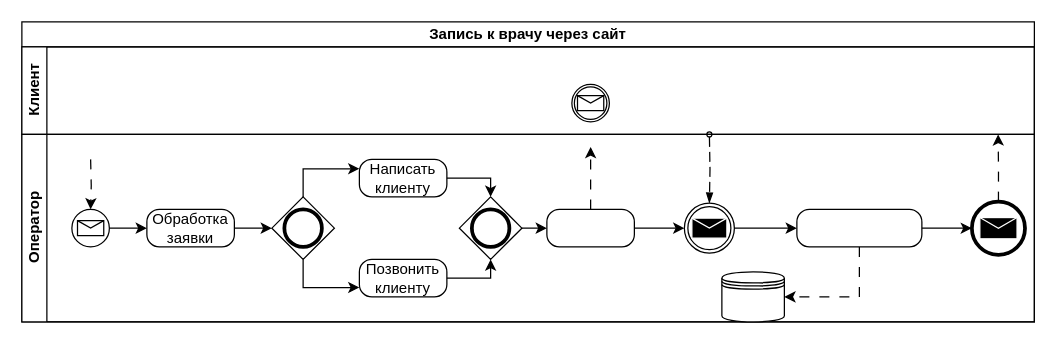
Image size: 1056x344. Some labels were removed from this diagram. The shapes that lost their labels are listed below. From the top down, each one's centre as x and y in pixels, then its label:
point (590, 227): Уточнить запись
point (859, 227): Внести данные в CRM
